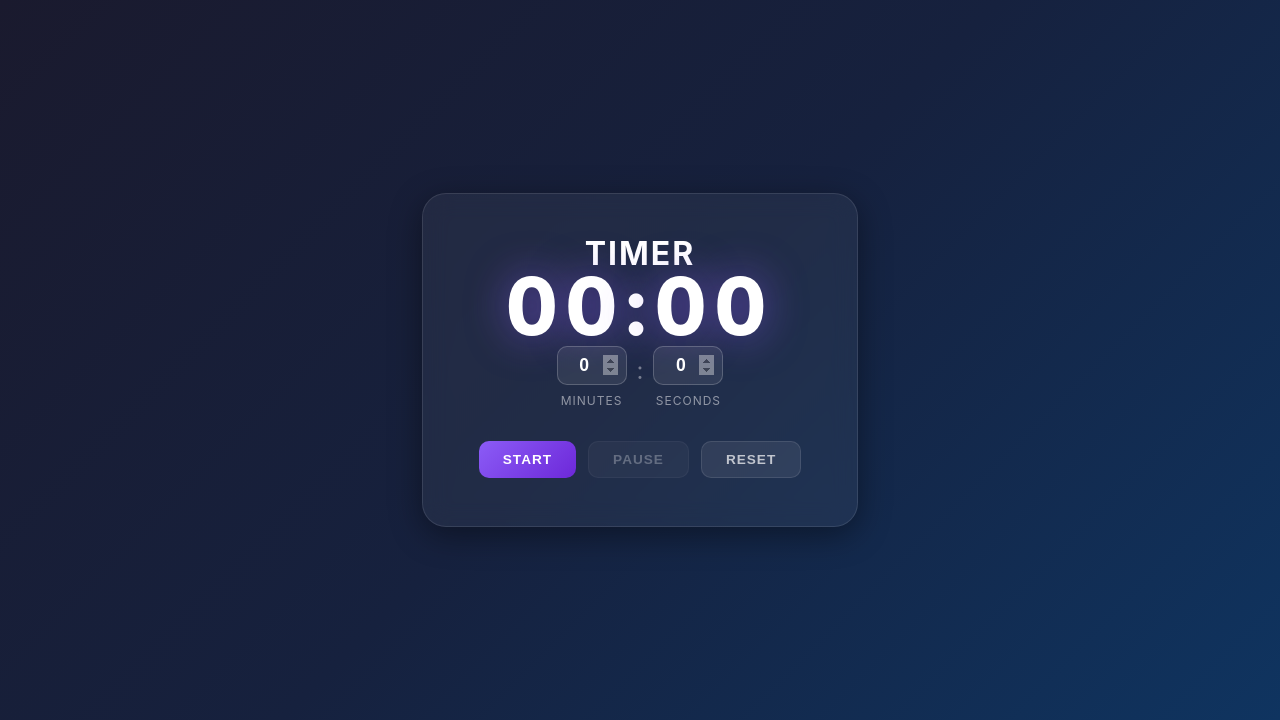
it: CountdownTimer › resets the timer to 00:00 when Reset is clicked
Replace the text in the 2nd number field with "10" at (688,366), box [654,346,724,385]
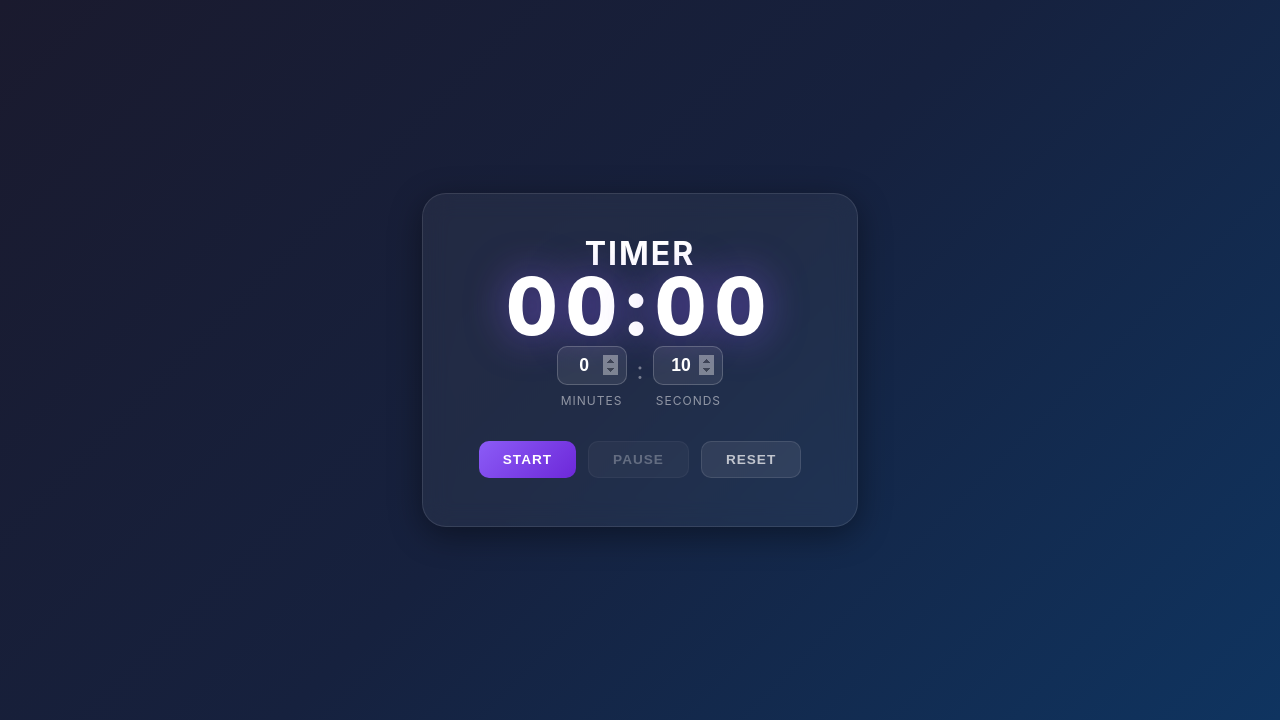
Click the button "Start" at (527,460), box [479,441,576,478]
Wait 3000 ms
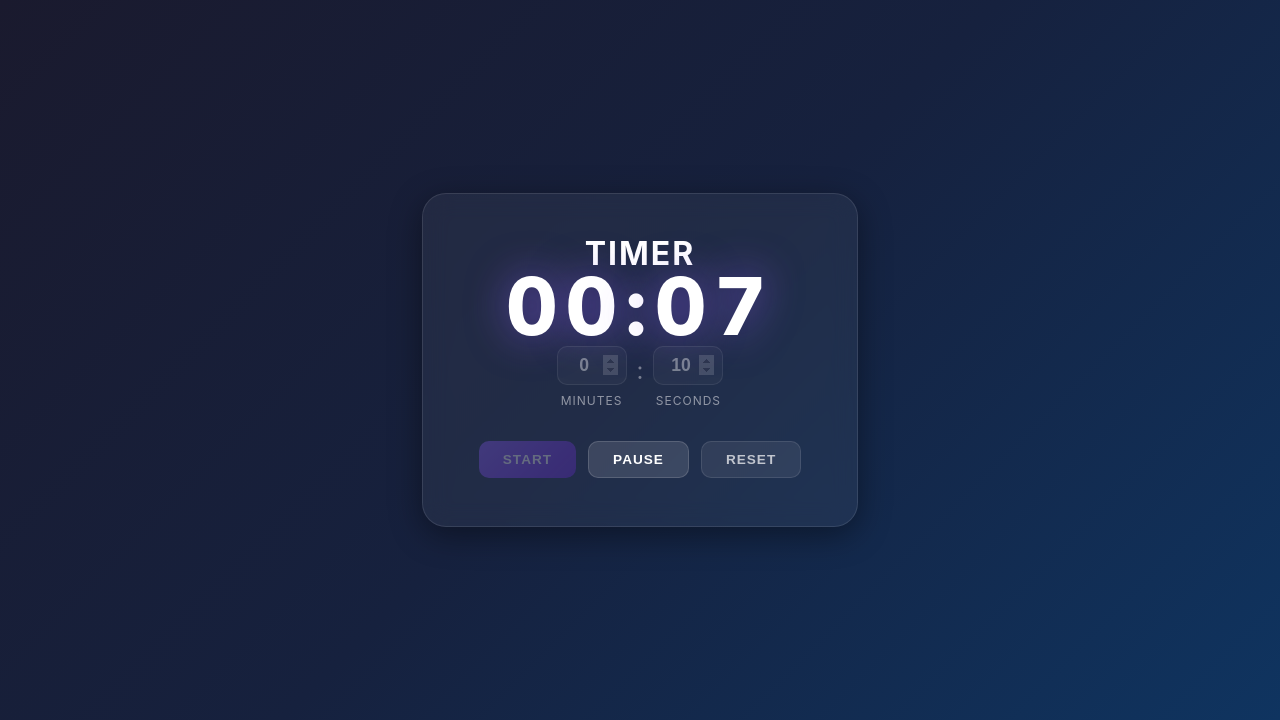
Click the button "Reset" at (751,460), box [701,441,801,478]
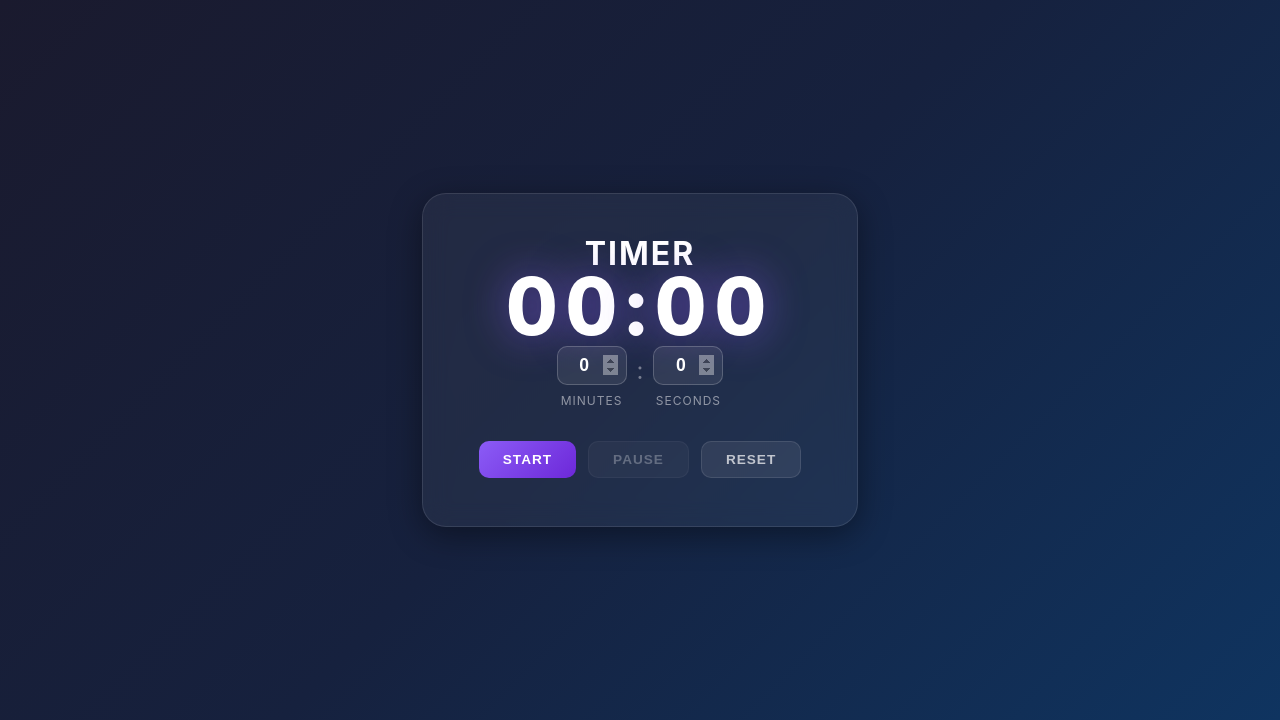
Expected: the text "00:00" is shown, [506,294,774,318]
